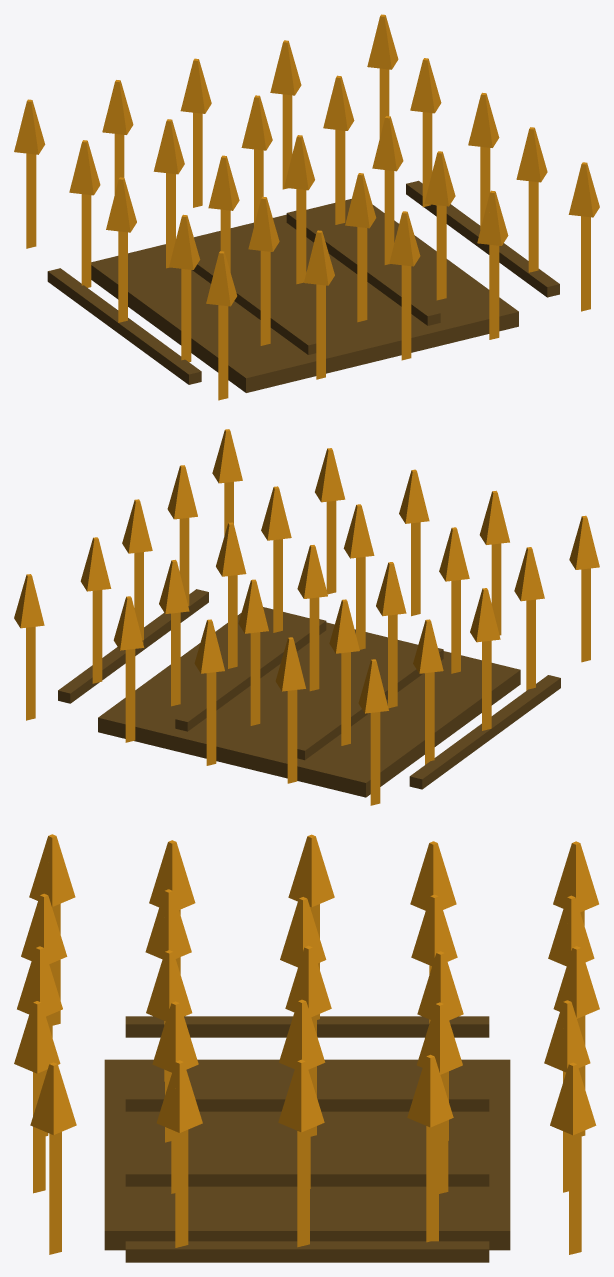
File: grainfield_growing.glb
The picture shows the model from 3 angles, top to bottom: view 1: azimuth 30°, elevation 25°; view 2: azimuth 150°, elevation 25°; view 3: azimuth 270°, elevation 25°; orthographic projection. The views are drawn at different scales.
Visible parts, largest first — view 1: Grain head.018, Furrow.002; view 2: Grain head.018, Furrow.002; view 3: Furrow.002, Grain head.018.
Part boxes in pixels (x1,y1,x2,y2): Grain head.018: (14,14,599,400); Furrow.002: (47,180,559,392); Grain head.018: (14,429,599,805); Furrow.002: (58,589,560,797); Furrow.002: (104,1016,510,1262); Grain head.018: (14,834,599,1254).
Bounding box in the file's own units: 1.39 × 0.56 × 1.39.
